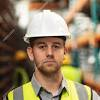helmet: (23, 6, 77, 41)
